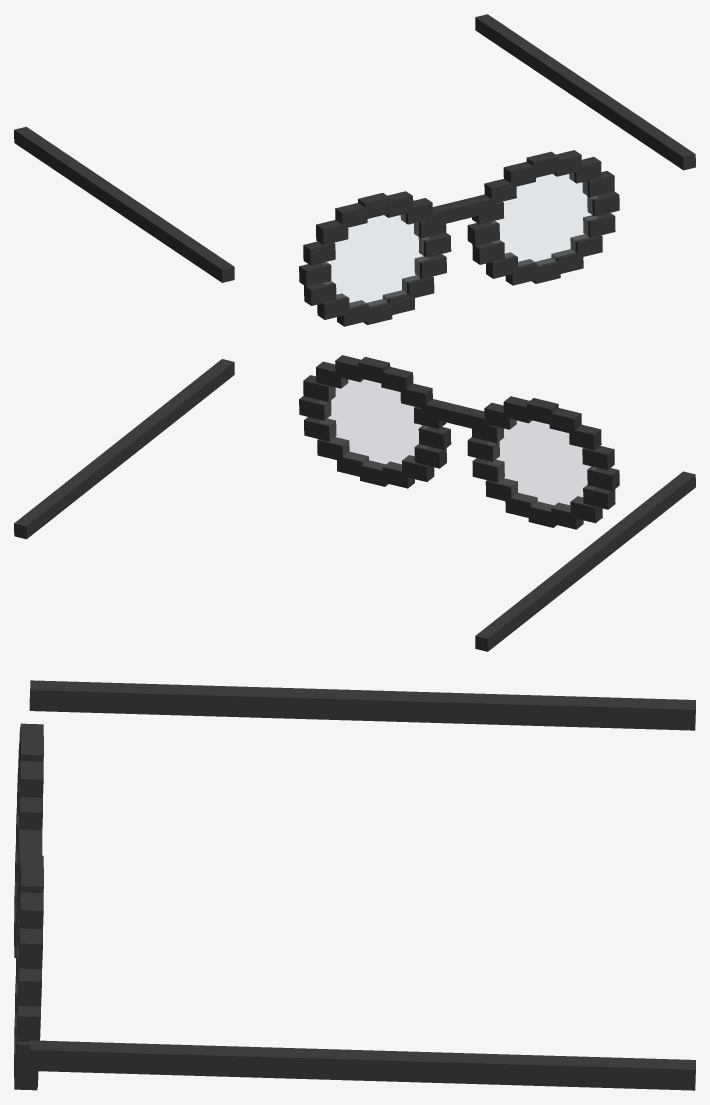
The model's file is glasses_m.glb.
3 views of the same model, one above another, from view 1: azimuth 30°, elevation 25°; view 2: azimuth 150°, elevation 25°; view 3: azimuth 270°, elevation 25° (orthographic). The views are drawn at different scales.
Parts seen in each view (by area): view 1: glasses_m; view 2: glasses_m; view 3: glasses_m.
Part boxes in pixels (x1,y1,x2,y2): glasses_m: (14, 14, 695, 326); glasses_m: (14, 355, 695, 651); glasses_m: (14, 680, 695, 1090).
Bounding box in the file's own units: 0.1899 × 0.0461 × 0.148.
